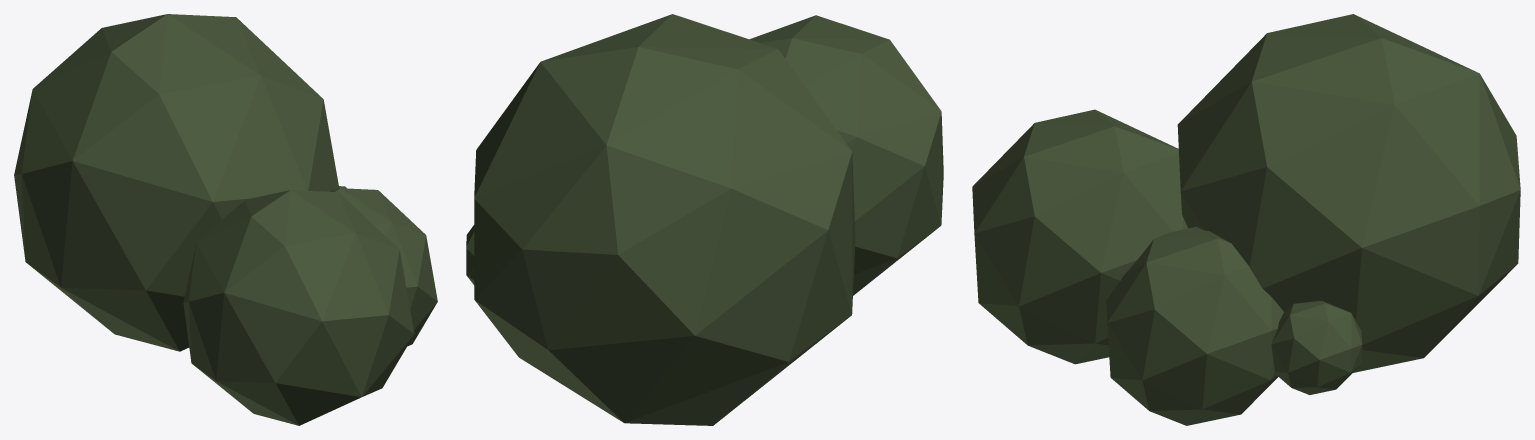
Rendered from bush2.fbx.
3 views of the same model, side by side, from view 1: azimuth 30°, elevation 25°; view 2: azimuth 150°, elevation 25°; view 3: azimuth 270°, elevation 25° (orthographic). The views are drawn at different scales.
Visible parts, largest first — view 1: Sphere.051, Sphere.052, Sphere.053; view 2: Sphere.051, Sphere.052, Sphere.054; view 3: Sphere.051, Sphere.052, Sphere.053, Sphere.054.
Part boxes in pixels (x1=…): Sphere.051: x1=14, y1=14, x2=339, y2=351; Sphere.052: x1=183, y1=190, x2=414, y2=425; Sphere.053: x1=330, y1=188, x2=437, y2=346; Sphere.051: x1=474, y1=14, x2=855, y2=425; Sphere.052: x1=749, y1=15, x2=943, y2=295; Sphere.054: x1=466, y1=225, x2=474, y2=284; Sphere.051: x1=1177, y1=14, x2=1520, y2=372; Sphere.052: x1=972, y1=109, x2=1187, y2=364; Sphere.053: x1=1106, y1=226, x2=1283, y2=425; Sphere.054: x1=1271, y1=300, x2=1362, y2=394.
Size of the model in its own units: 32.88 by 29.65 by 44.89.
